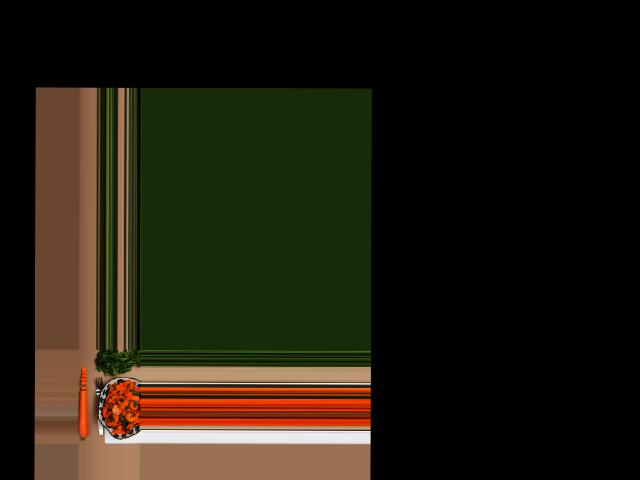carrot: (77, 390, 86, 439)
